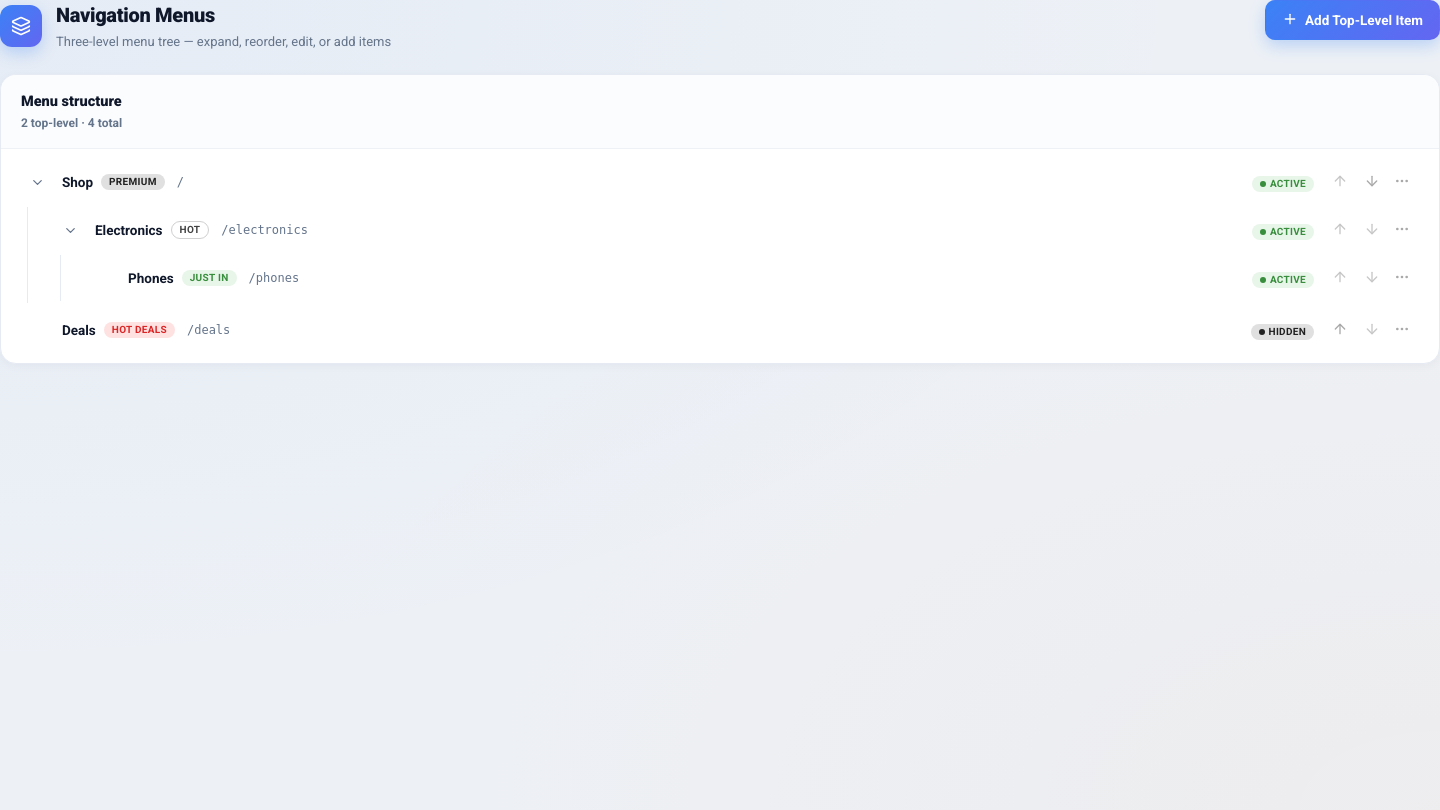
Scenario: MenuTreeEditor › groups the row actions into an overflow menu
The image size is (1440, 810).
Expected: the text "Shop" is shown, [62,172,93,192]
Click the button named "More actions for Shop". click: (1402, 182)
box: [1388,168,1416,196]
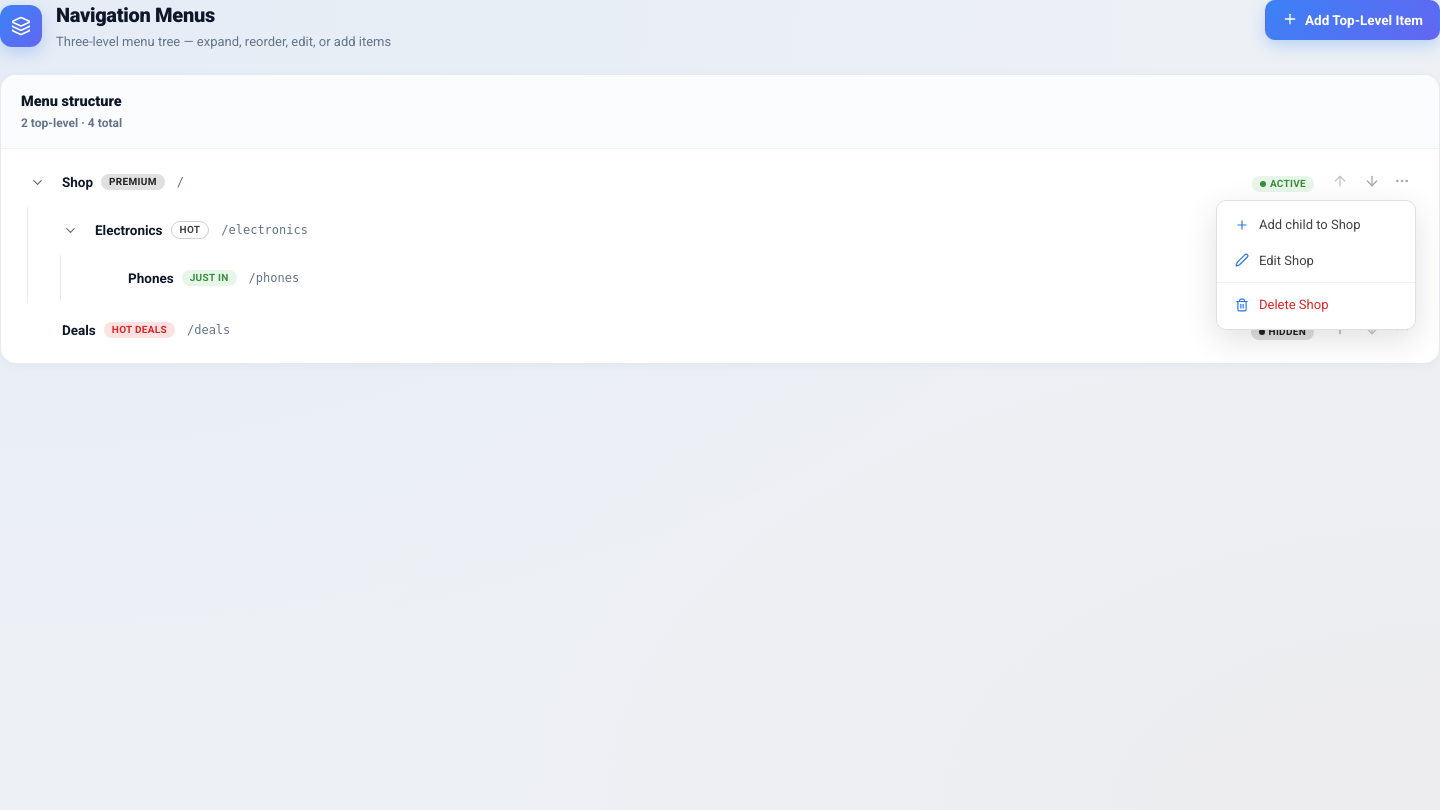
Expected: the menu item "Add child to Shop" is shown, [1235,217,1361,232]
Expected: the menu item "Edit Shop" is shown, [1235,252,1314,268]
Expected: the menu item "Delete Shop" is shown, [1235,297,1328,312]
